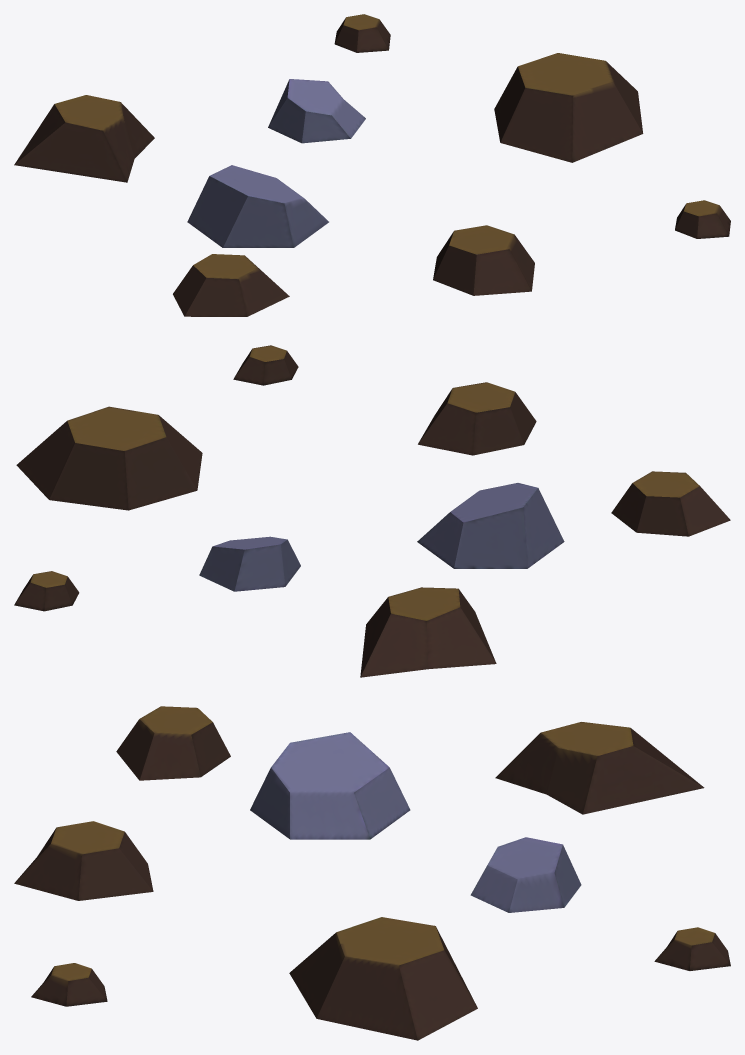
The model's file is tile_wood_1_ruin_lod0.fbx.
3 views of the same model, one above another, from view 1: azimuth 30°, elevation 25°; view 2: azimuth 150°, elevation 25°; view 3: azimuth 270°, elevation 25° (orthographic). The views are drawn at different scales.
Parts seen in each view (by area): view 1: wood_1_ruin_lod0; view 2: wood_1_ruin_lod0; view 3: wood_1_ruin_lod0.
Part boxes in pixels (left/top/right/bottom): wood_1_ruin_lod0: left=14, top=14, right=730, bottom=316; wood_1_ruin_lod0: left=14, top=345, right=730, bottom=677; wood_1_ruin_lod0: left=14, top=706, right=730, bottom=1040.
Size of the model in its own units: 0.0489 by 0.00407 by 0.047.
